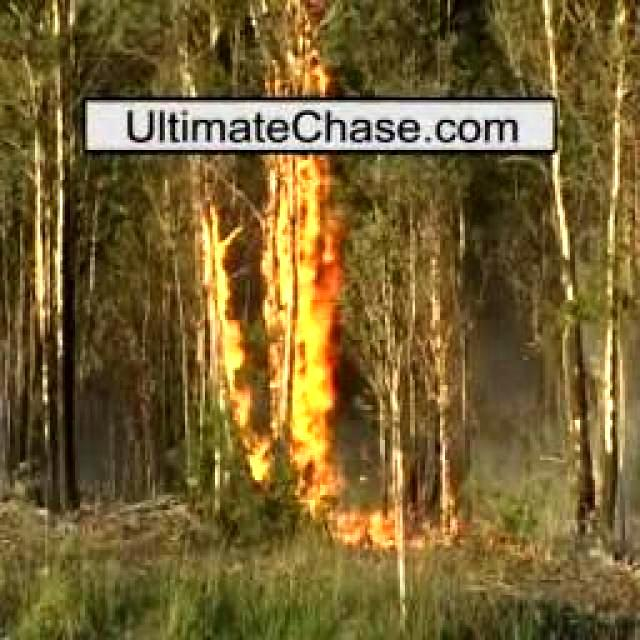fire: (198, 157, 349, 508), (269, 12, 333, 92), (328, 510, 402, 550)
